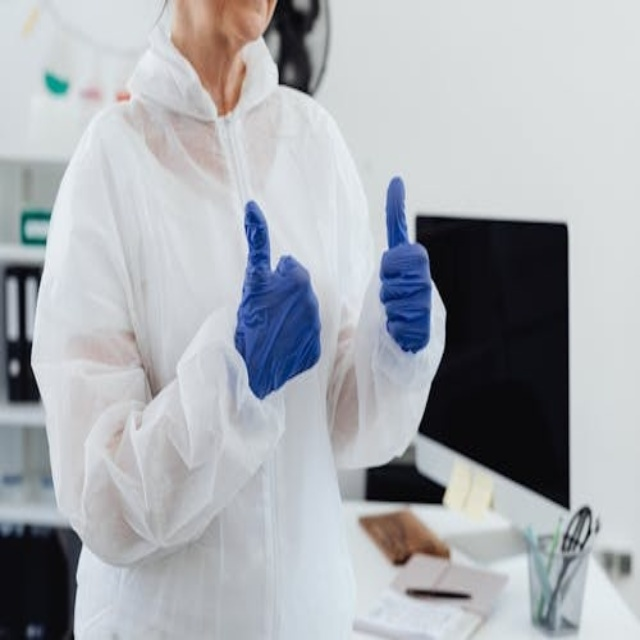Guantes: (233, 198, 322, 400), (379, 175, 432, 357)
